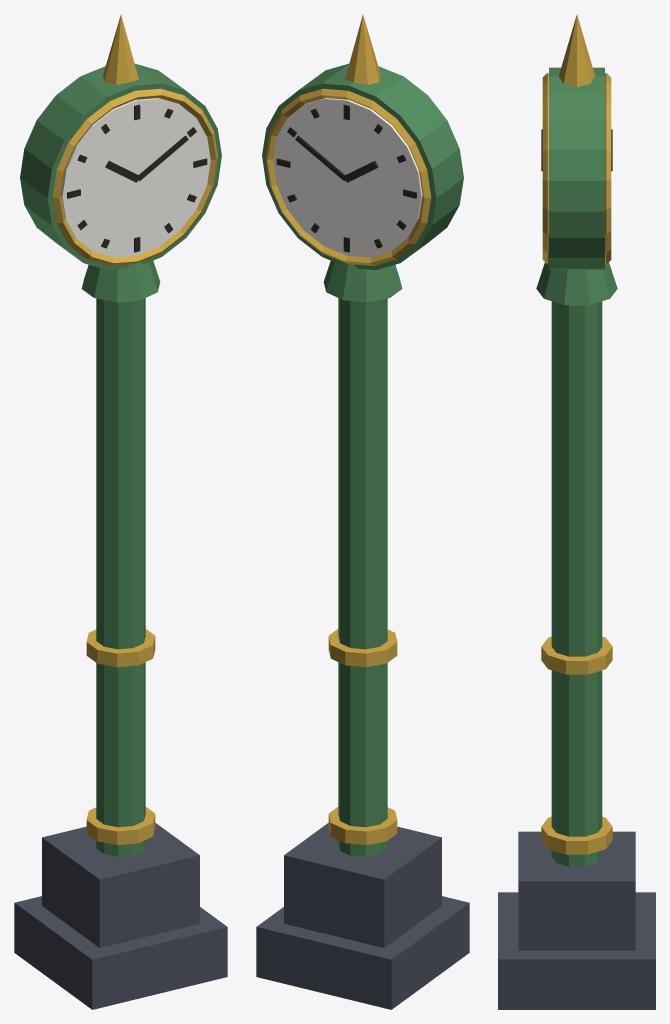
File: street-clock.glb
The picture shows the model from 3 angles, left to right: view 1: azimuth 30°, elevation 25°; view 2: azimuth 150°, elevation 25°; view 3: azimuth 270°, elevation 25°; orthographic projection.
Visible parts, largest first — view 1: street-clock; view 2: street-clock; view 3: street-clock.
Boxes of the visible parts, x1,y1,x2,y2 form: street-clock: (14,15,227,1009); street-clock: (256,15,469,1009); street-clock: (498,15,655,1009).
Size of the model in its own units: 0.8 by 4.17 by 0.62.
